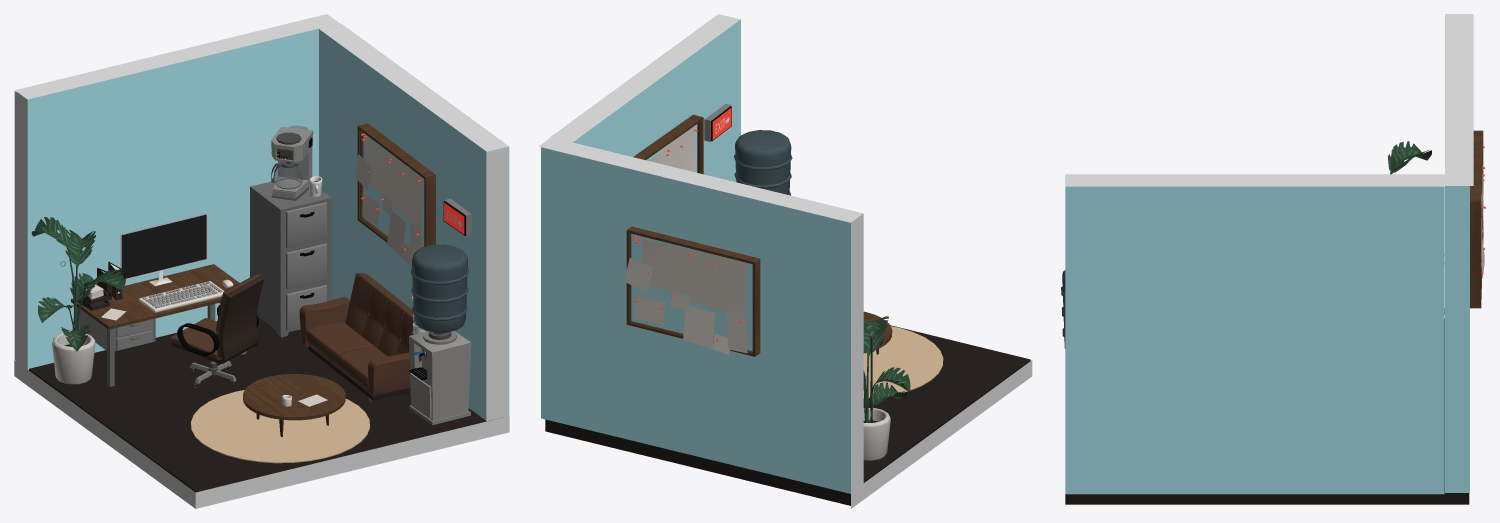
Rendered from compressedOffice.glb.
3 views of the same model, side by side, from view 1: azimuth 30°, elevation 25°; view 2: azimuth 150°, elevation 25°; view 3: azimuth 270°, elevation 25° (orthographic). The views are drawn at different scales.
Parts seen in each view (by area): view 1: Cube.011, Cube.030, Cube, Cylinder.012, Plane.004, Cube.003, Plane.002, Cube.021, Cube.023_5, Cube.023_0, Plane.001, Cube.003_1 (+21 smaller); view 2: Cube.011, Cube.030, Cube, Plane.001, Plane.006, Plane.007, Cylinder.012, Cube.023_5, Plane.003, Cylinder.003_1, Cylinder.003, Cube.006; view 3: Cube.030, Cube.011, Plane.001, Plane.006, Cube, Cylinder.003_1.
Part boxes in pixels (<box>): Cube.011: <box>17,23,338,369</box>; Cube.030: <box>319,29,509,420</box>; Cube: <box>29,318,501,492</box>; Cylinder.012: <box>191,390,369,463</box>; Plane.004: <box>486,147,508,421</box>; Cube.003: <box>250,180,331,337</box>; Plane.002: <box>195,416,509,508</box>; Cube.021: <box>169,274,263,387</box>; Cube.023_5: <box>411,244,468,334</box>; Cube.023_0: <box>409,330,471,420</box>; Plane.001: <box>15,14,339,99</box>; Cube.003_1: <box>286,202,326,330</box>; Cube.011: <box>541,147,863,493</box>; Cube.030: <box>550,14,740,181</box>; Cube: <box>545,325,1030,505</box>; Plane.001: <box>539,137,863,222</box>; Plane.006: <box>550,14,739,142</box>; Plane.007: <box>851,214,863,491</box>; Cylinder.012: <box>863,326,943,398</box>; Cube.023_5: <box>734,130,792,195</box>; Plane.003: <box>851,360,1032,508</box>; Cylinder.003_1: <box>863,315,910,422</box>; Cylinder.003: <box>863,408,890,460</box>; Cube.006: <box>704,104,731,141</box>; Cube.030: <box>1065,174,1444,494</box>; Cube.011: <box>1445,130,1485,492</box>; Plane.001: <box>1445,14,1473,185</box>; Plane.006: <box>1066,174,1444,186</box>; Cube: <box>1065,319,1469,504</box>; Cylinder.003_1: <box>1388,141,1431,174</box>.
Size of the model in its own units: 4.25 by 3.52 by 4.2.
Materials: 37 (4 with a texture image).
